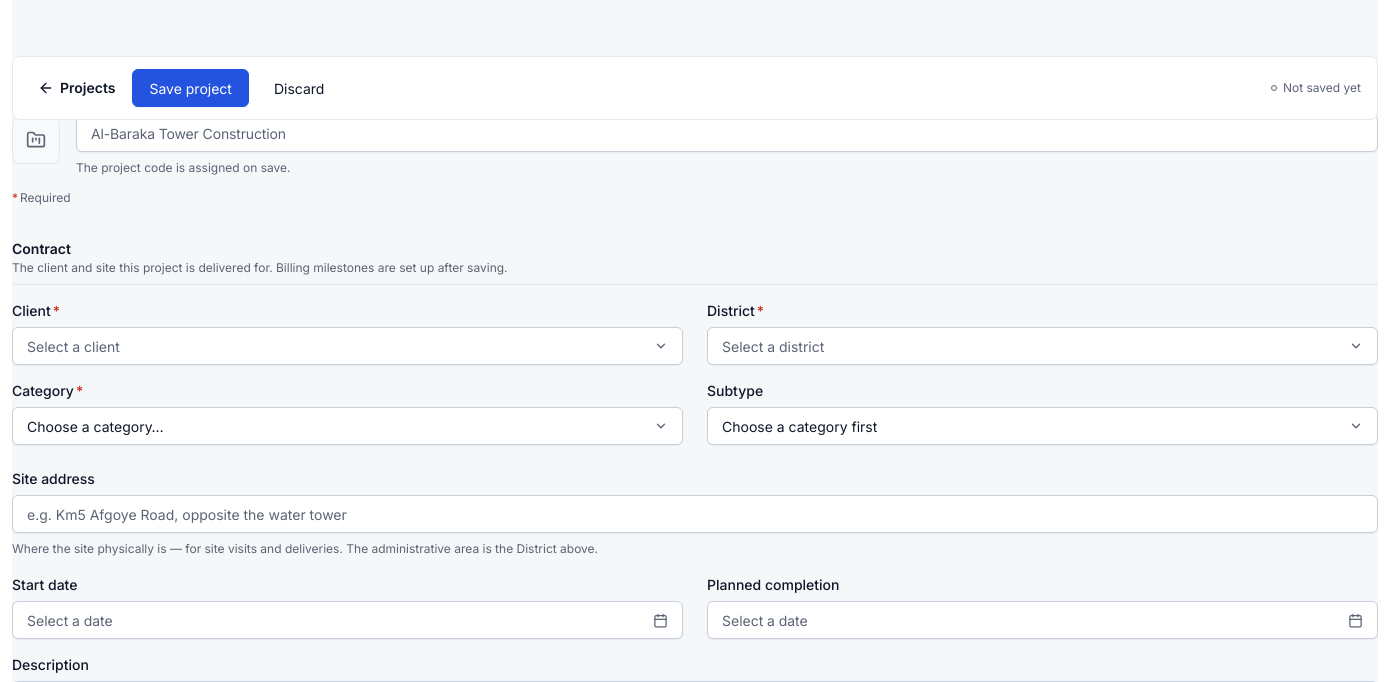
Scenario: ProjectForm — validation › requires a category before creating a project (PTD1-PTD5)
Type "Tower" into the field labelled "Project name*" at [727, 133], box [76,114,1378,152]
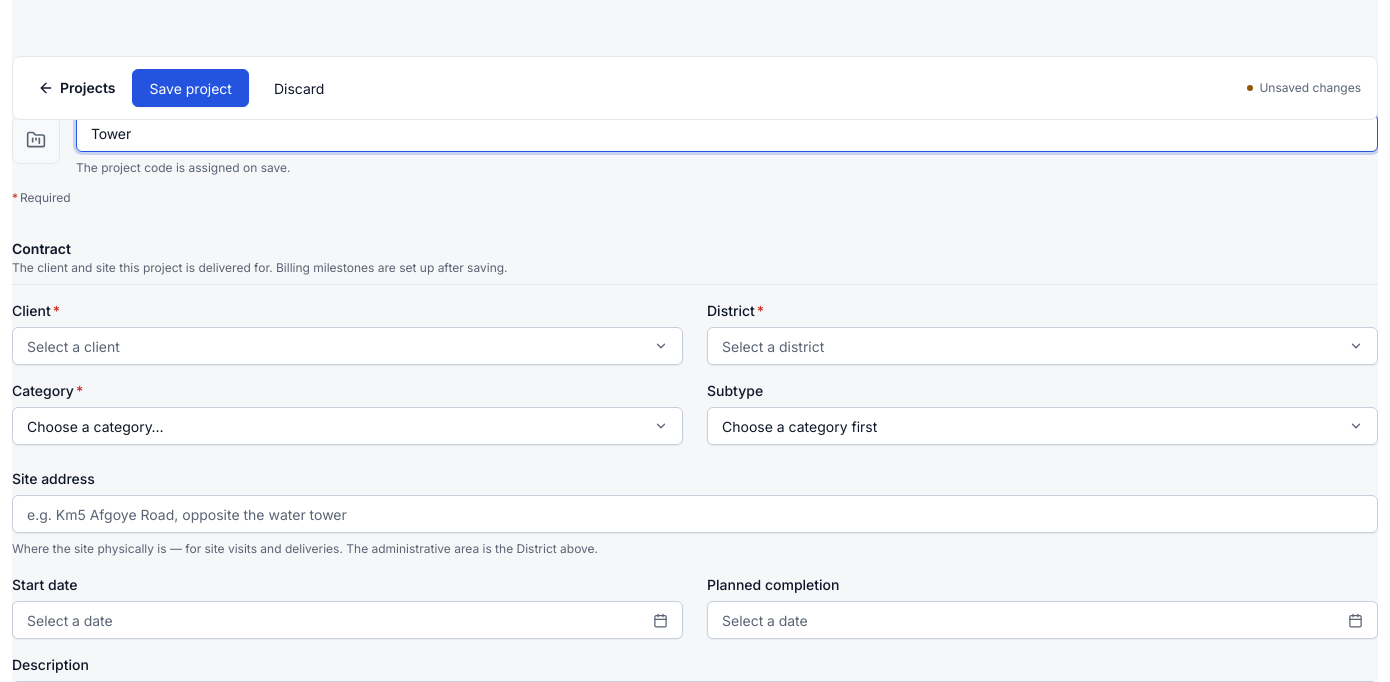
Click the dropdown labelled "Select a district" at [773, 346], box [707,327,1378,365]
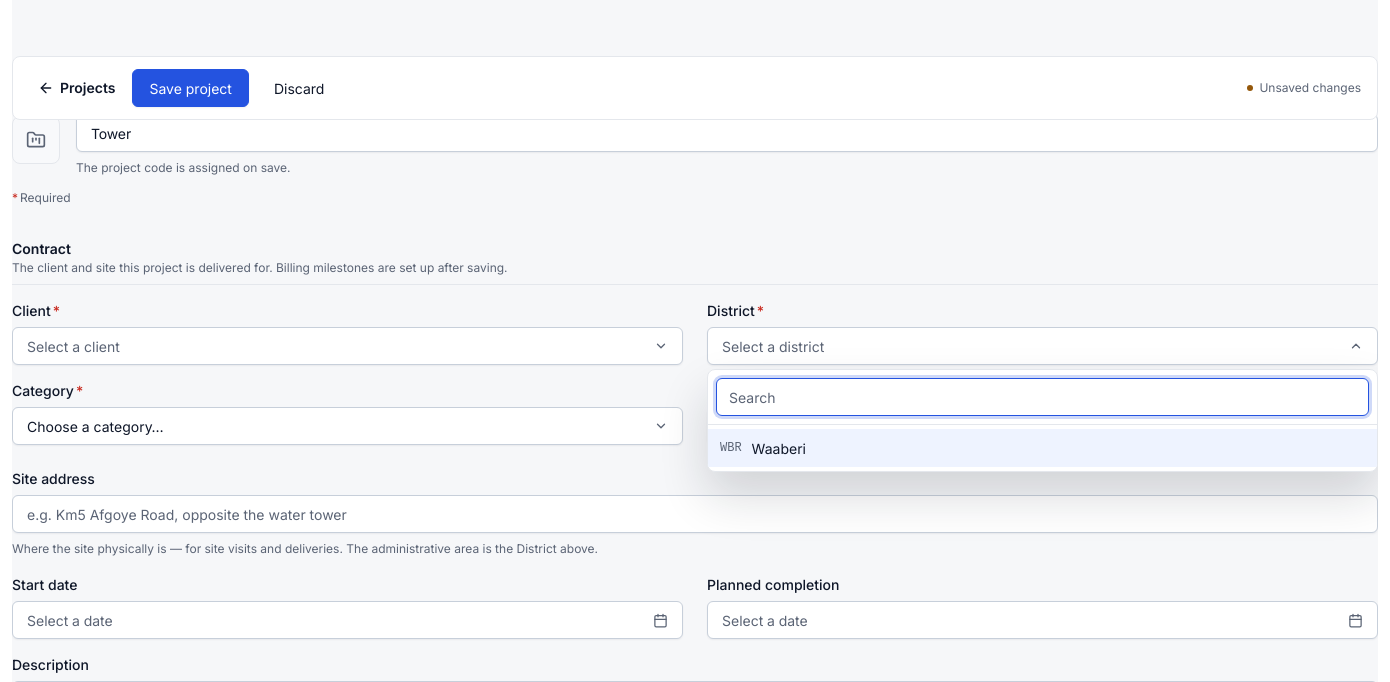
Click the option "WBR Waaberi" at [779, 448], box [708,429,1377,467]
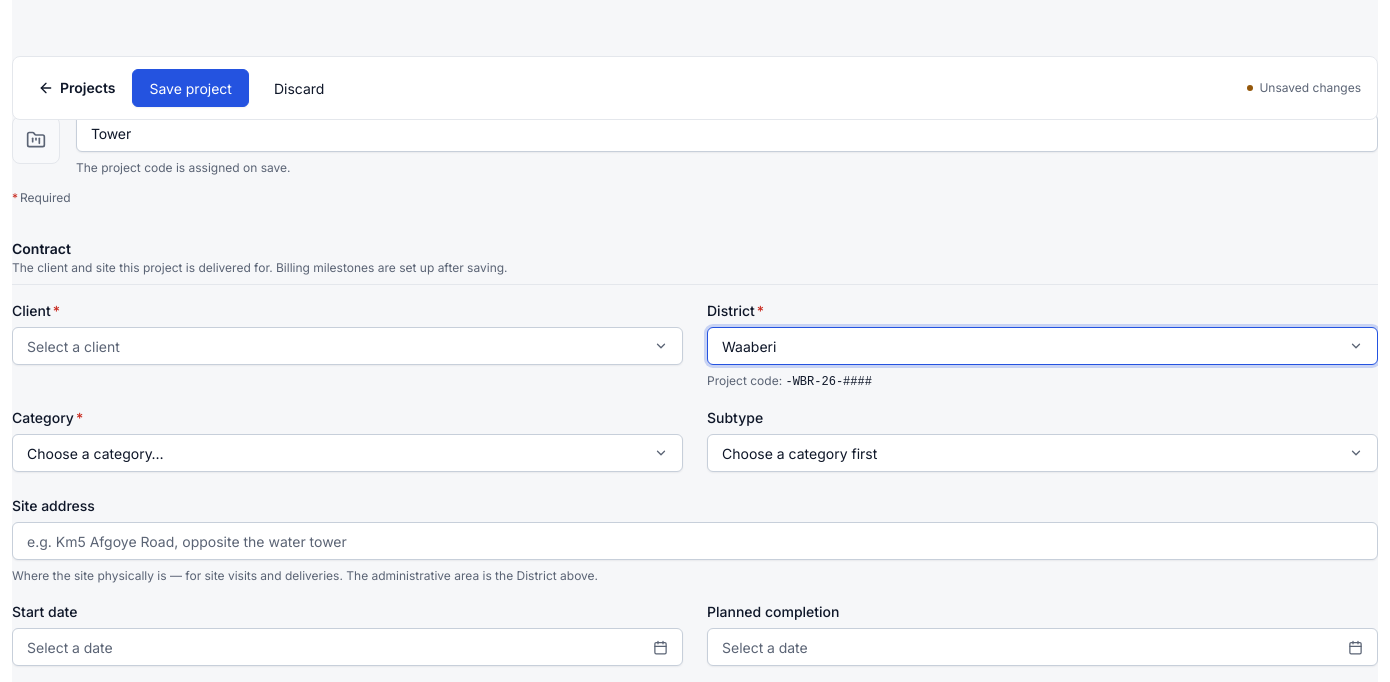
Click the dropdown labelled "Select a client" at [73, 346], box [12,327,683,365]
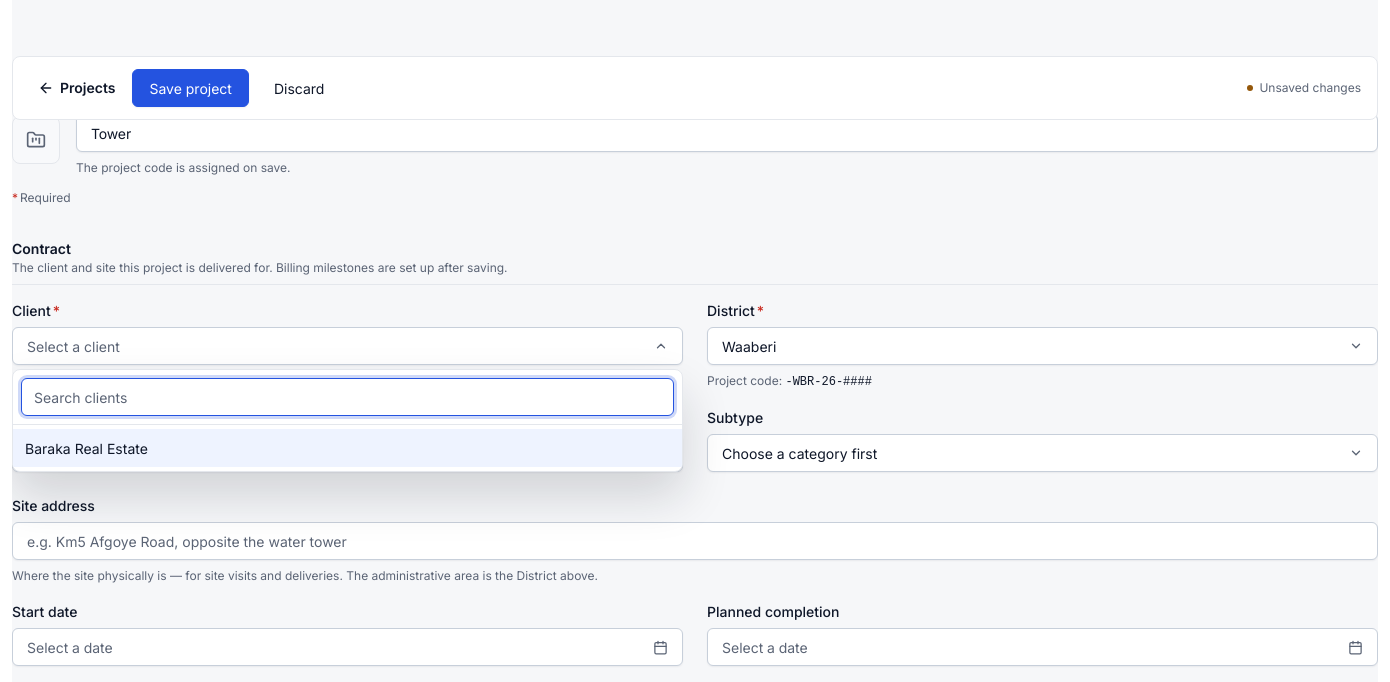
Click the option "Baraka Real Estate" at [86, 448], box [13,429,682,467]
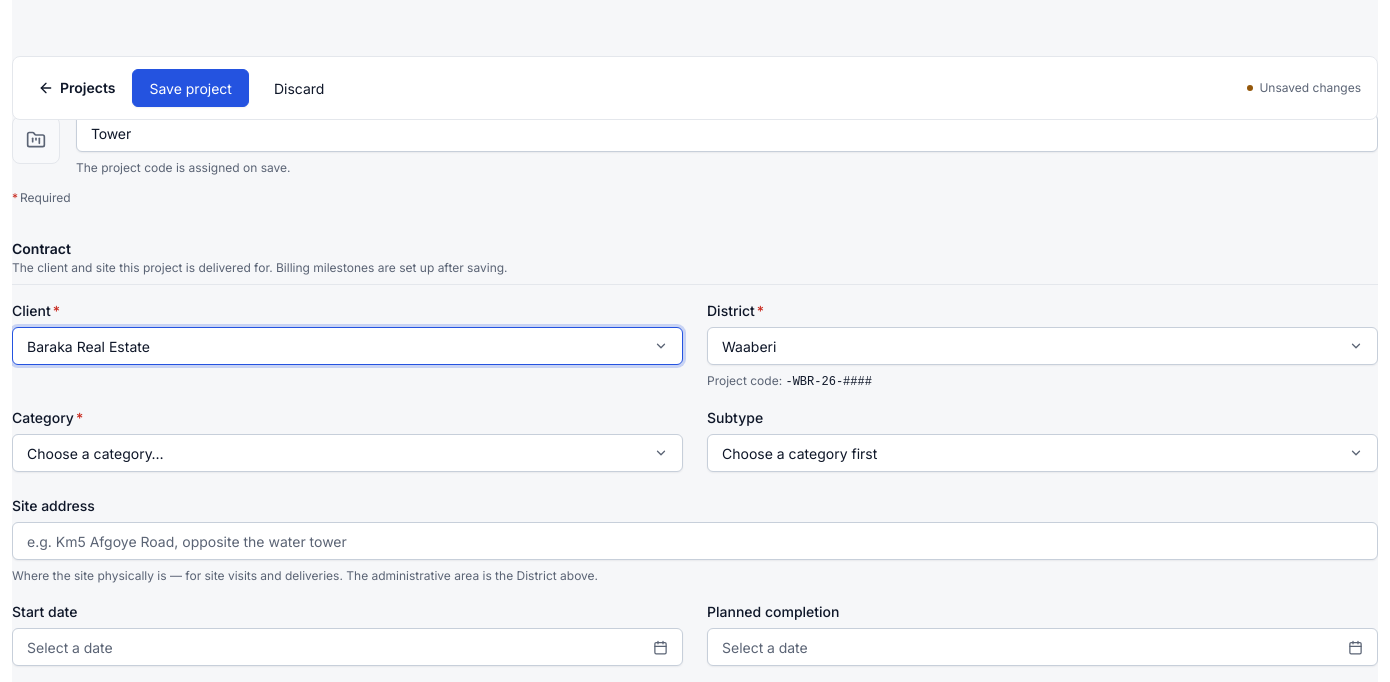
Click the button "Save project" at [191, 88], box [132,69,249,107]
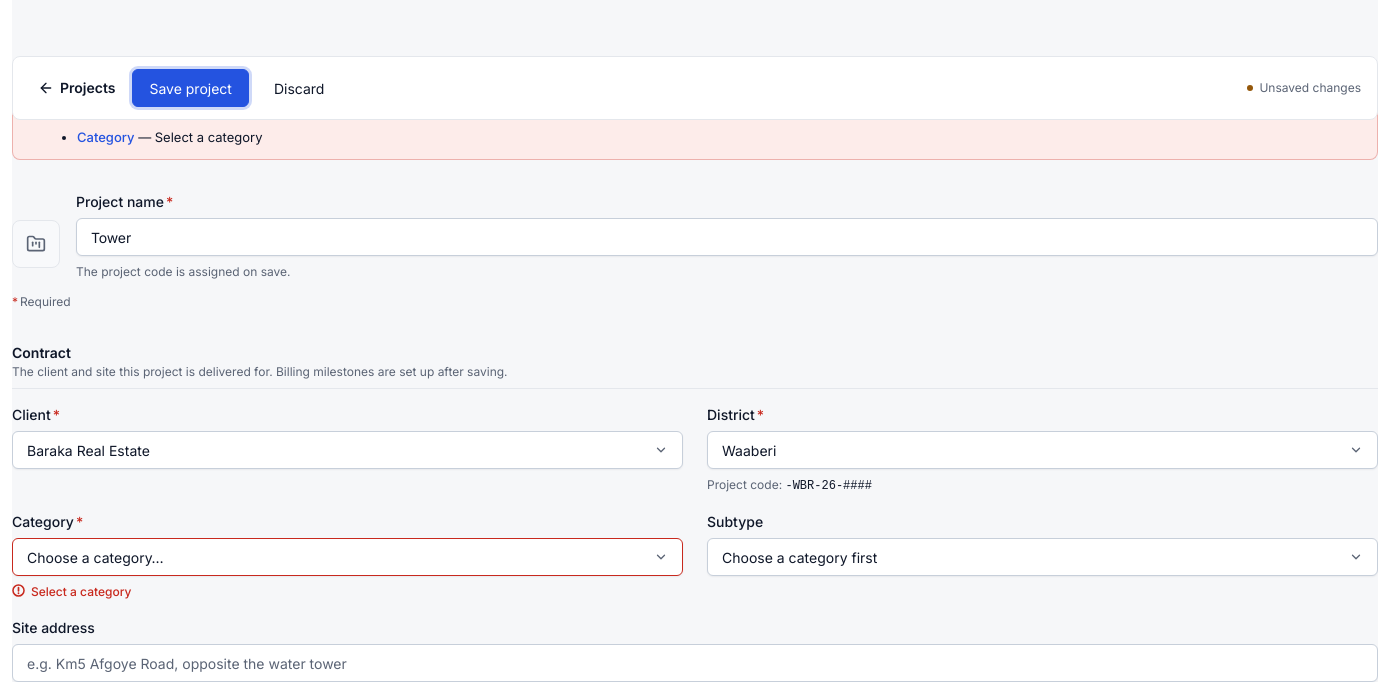
Now the text "Select a category" is shown, box [12,584,131,599]
